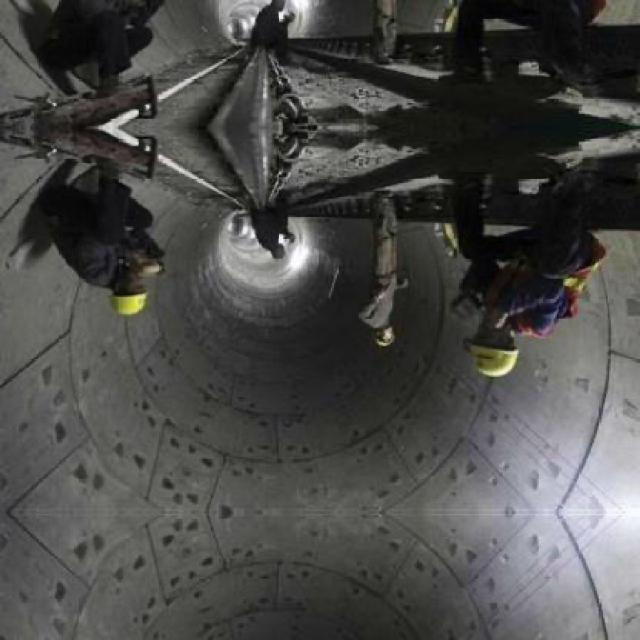con casco: (450, 325, 533, 389), (109, 264, 168, 332), (351, 318, 405, 358)
